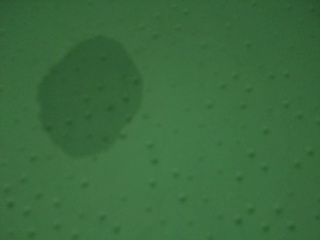Water_detected: (52, 54, 133, 148)
